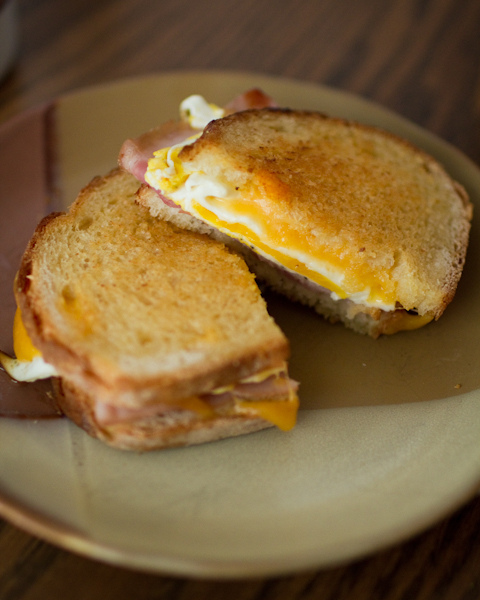fried egg: (151, 165, 392, 312)
slice of bread: (1, 179, 271, 368), (222, 104, 463, 260)
